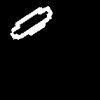chain: (11, 6, 51, 39)
